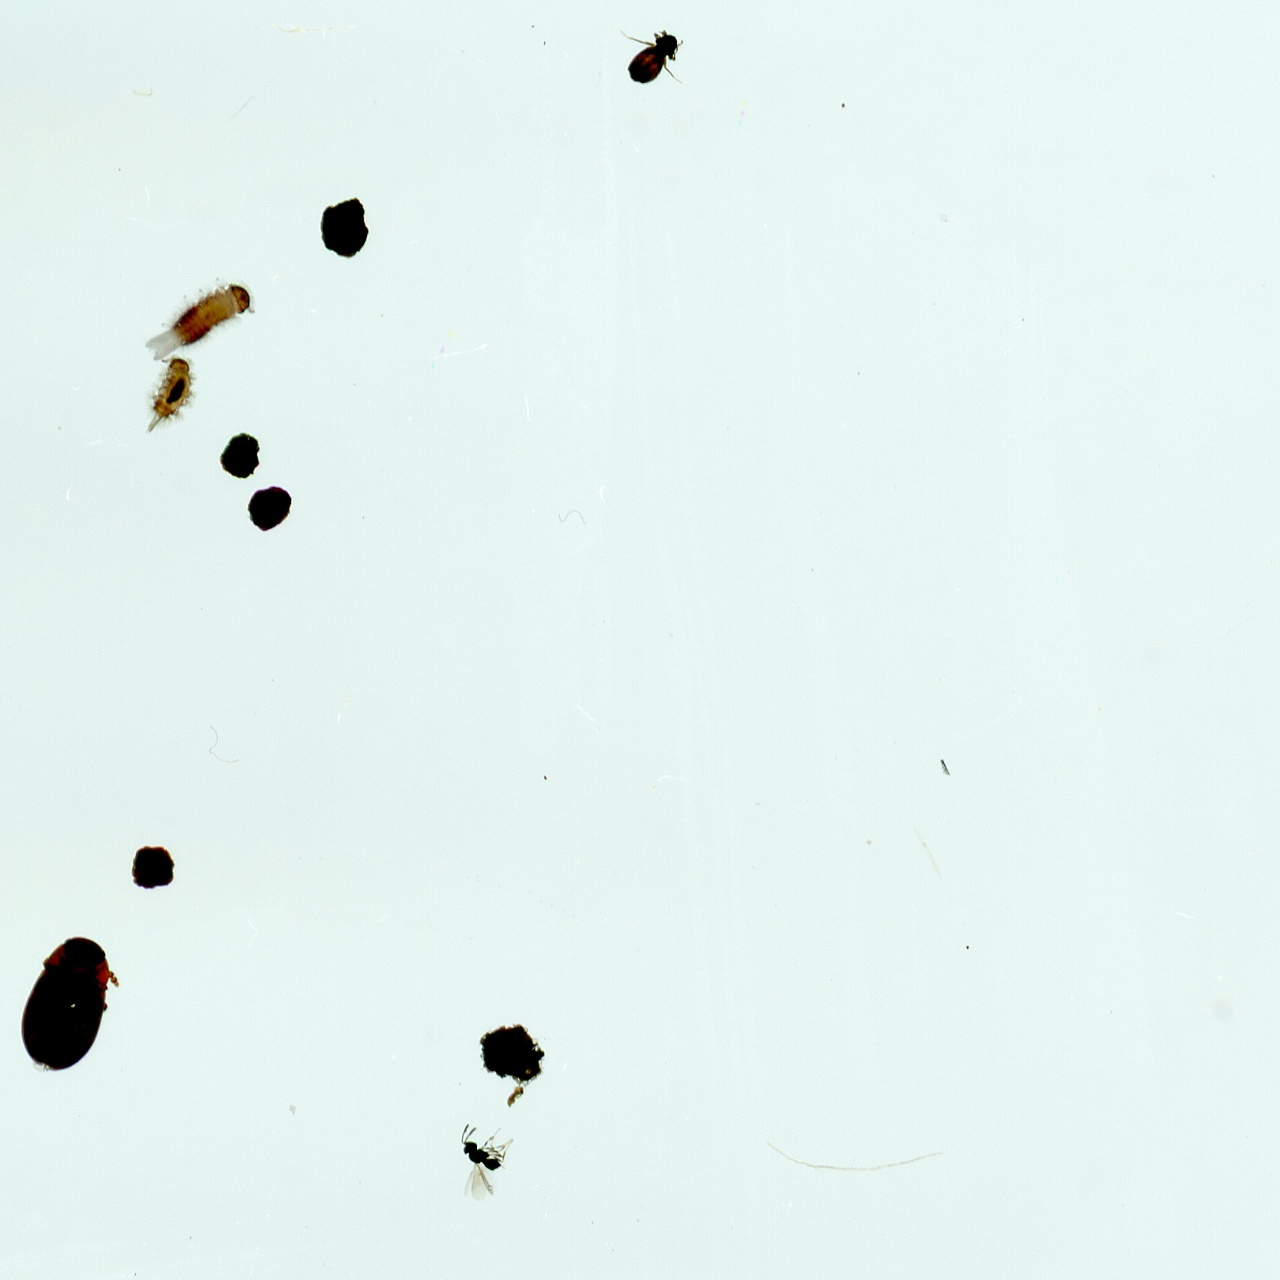arthropod: (16, 932, 120, 1077), (141, 279, 258, 356), (449, 1122, 516, 1196), (141, 359, 196, 438), (620, 27, 686, 91)
